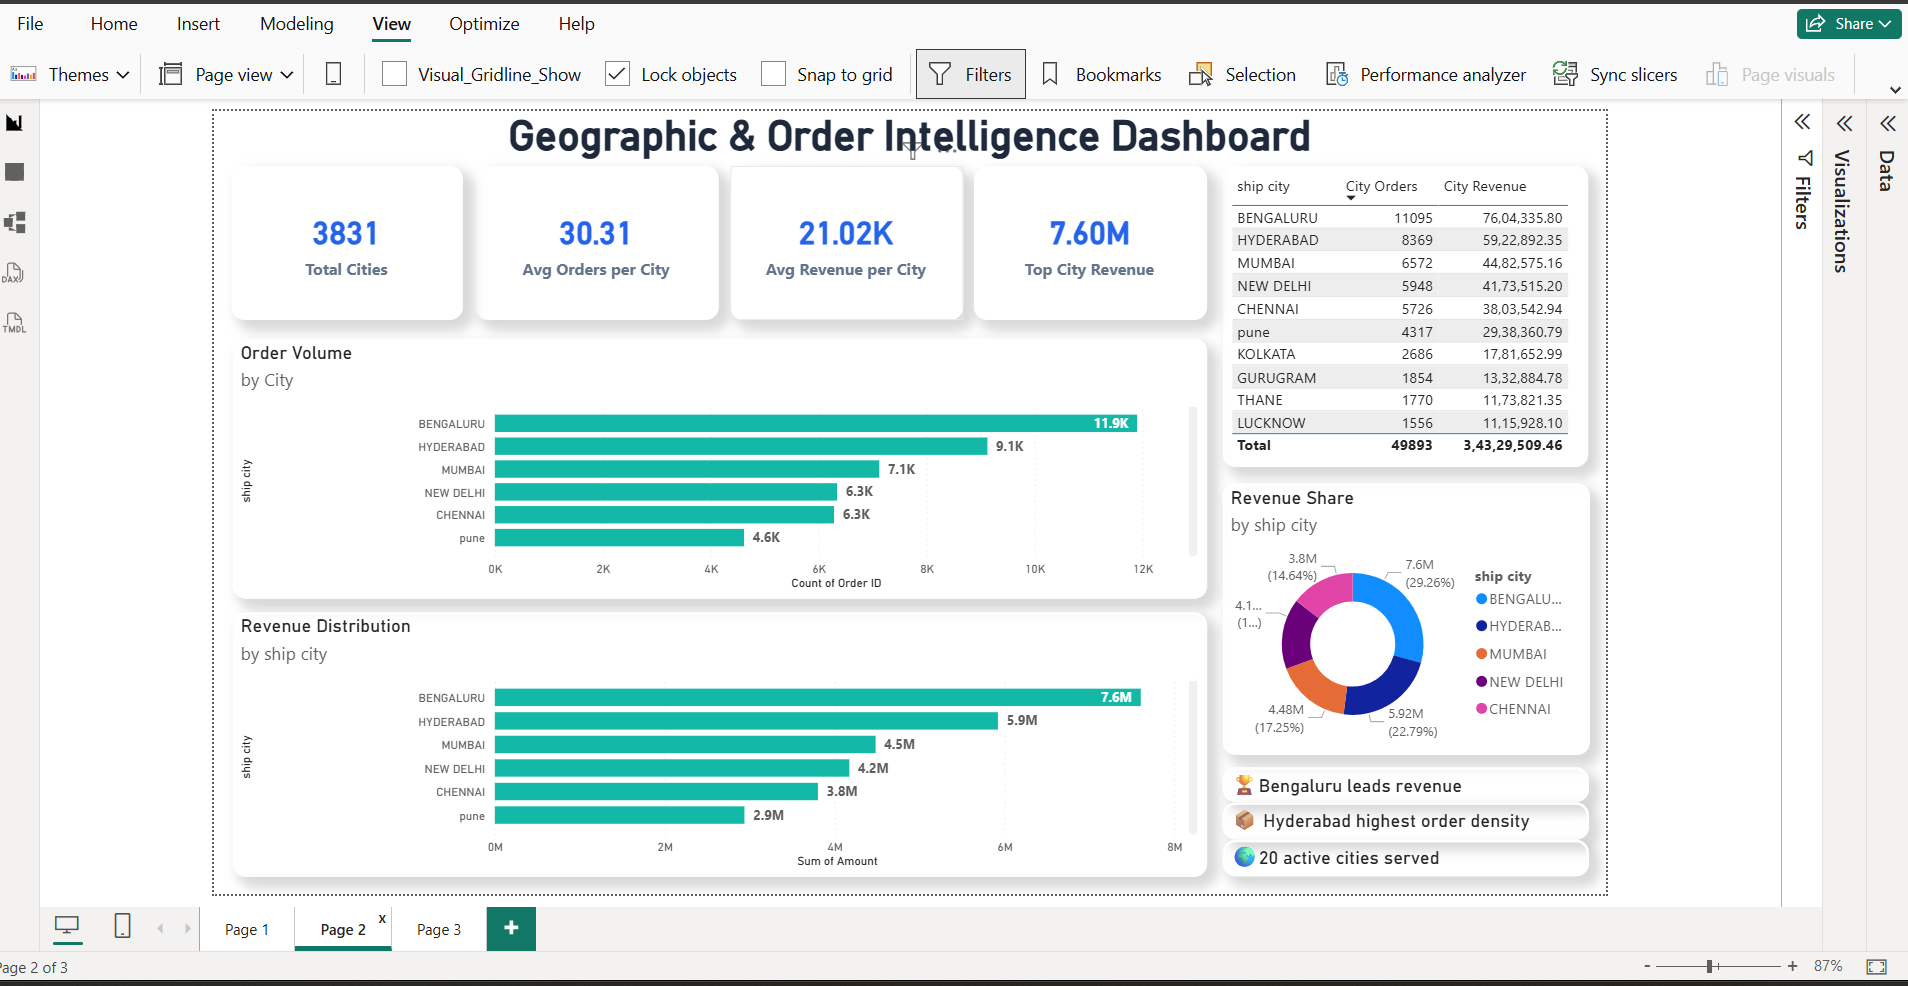

This screenshot's page, from the dashboard's own definition file:
{"tool":"powerbi","page":{"name":"Page 2","canvas":[1280,720],"ordinal":1},"visuals":[{"type":"textbox","title":"Geographic & Order Intelligence Dashboard","box":[0,0,1280,51.3],"z":0},{"type":"barChart","title":"Order Volume","fields":{"Category":["E-commerce Sales Data.ship_city"],"Y":["CountNonNull(E-commerce Sales Data.Order_ID)"]},"box":[16.7,208.7,896,239.3],"z":1000},{"type":"barChart","title":"Revenue Distribution","fields":{"Category":["E-commerce Sales Data.ship_city"],"Y":["Sum(E-commerce Sales Data.Amount)"]},"box":[16.7,460.5,896,243.5],"z":2000},{"type":"tableEx","fields":{"Values":["E-commerce Sales Data.ship_city","E-commerce Sales Data.City Orders","E-commerce Sales Data.City Revenue"]},"box":[927.6,50.8,336.2,277.2],"z":3000},{"type":"donutChart","title":"Revenue Share ","fields":{"Category":["E-commerce Sales Data.ship_city"],"Y":["Sum(E-commerce Sales Data.Amount)"]},"box":[927.6,343.1,337.6,249.7],"z":4000},{"type":"textbox","title":"🏆Bengaluru leads revenue","box":[928,603.8,336.7,32],"z":5000},{"type":"textbox","title":"📦 Hyderabad highest order density","box":[928,635.8,336.7,34.8],"z":6000},{"type":"textbox","title":"🌍20 active cities served","box":[928,670.6,336.7,33.4],"z":7000},{"type":"card","fields":{"Values":["E-commerce Sales Data.Avg Orders per City"]},"box":[240.1,50.8,223.7,141.3],"z":7002},{"type":"card","fields":{"Values":["E-commerce Sales Data.Avg Revenue per City"]},"box":[474.8,50.8,214.1,141.3],"z":7003},{"type":"card","fields":{"Values":["E-commerce Sales Data.Top City Revenue"]},"box":[698.5,50.8,214.1,141.3],"z":7004},{"type":"card","fields":{"Values":["E-commerce Sales Data.Total Cities"]},"box":[16.5,50.8,212.7,141.3],"z":7005}]}

Visuals, with their boxes on the page's 1280x720 design canvas (x1, y1, x2, y2). These are canvas units, not pixel positions in the 1908x986 screenshot, which may show the page scaled, cropped or inside an application window:
"Geographic & Order Intelligence Dashboard" textbox: (x1=0, y1=0, x2=1280, y2=51)
"Order Volume" barChart: (x1=17, y1=209, x2=913, y2=448)
"Revenue Distribution" barChart: (x1=17, y1=460, x2=913, y2=704)
tableEx - E-commerce Sales Data.ship_city x E-commerce Sales Data.City Orders: (x1=928, y1=51, x2=1264, y2=328)
"Revenue Share " donutChart: (x1=928, y1=343, x2=1265, y2=593)
"🏆Bengaluru leads revenue" textbox: (x1=928, y1=604, x2=1265, y2=636)
"📦 Hyderabad highest order density" textbox: (x1=928, y1=636, x2=1265, y2=671)
"🌍20 active cities served" textbox: (x1=928, y1=671, x2=1265, y2=704)
card - E-commerce Sales Data.Avg Orders per City: (x1=240, y1=51, x2=464, y2=192)
card - E-commerce Sales Data.Avg Revenue per City: (x1=475, y1=51, x2=689, y2=192)
card - E-commerce Sales Data.Top City Revenue: (x1=698, y1=51, x2=913, y2=192)
card - E-commerce Sales Data.Total Cities: (x1=16, y1=51, x2=229, y2=192)
